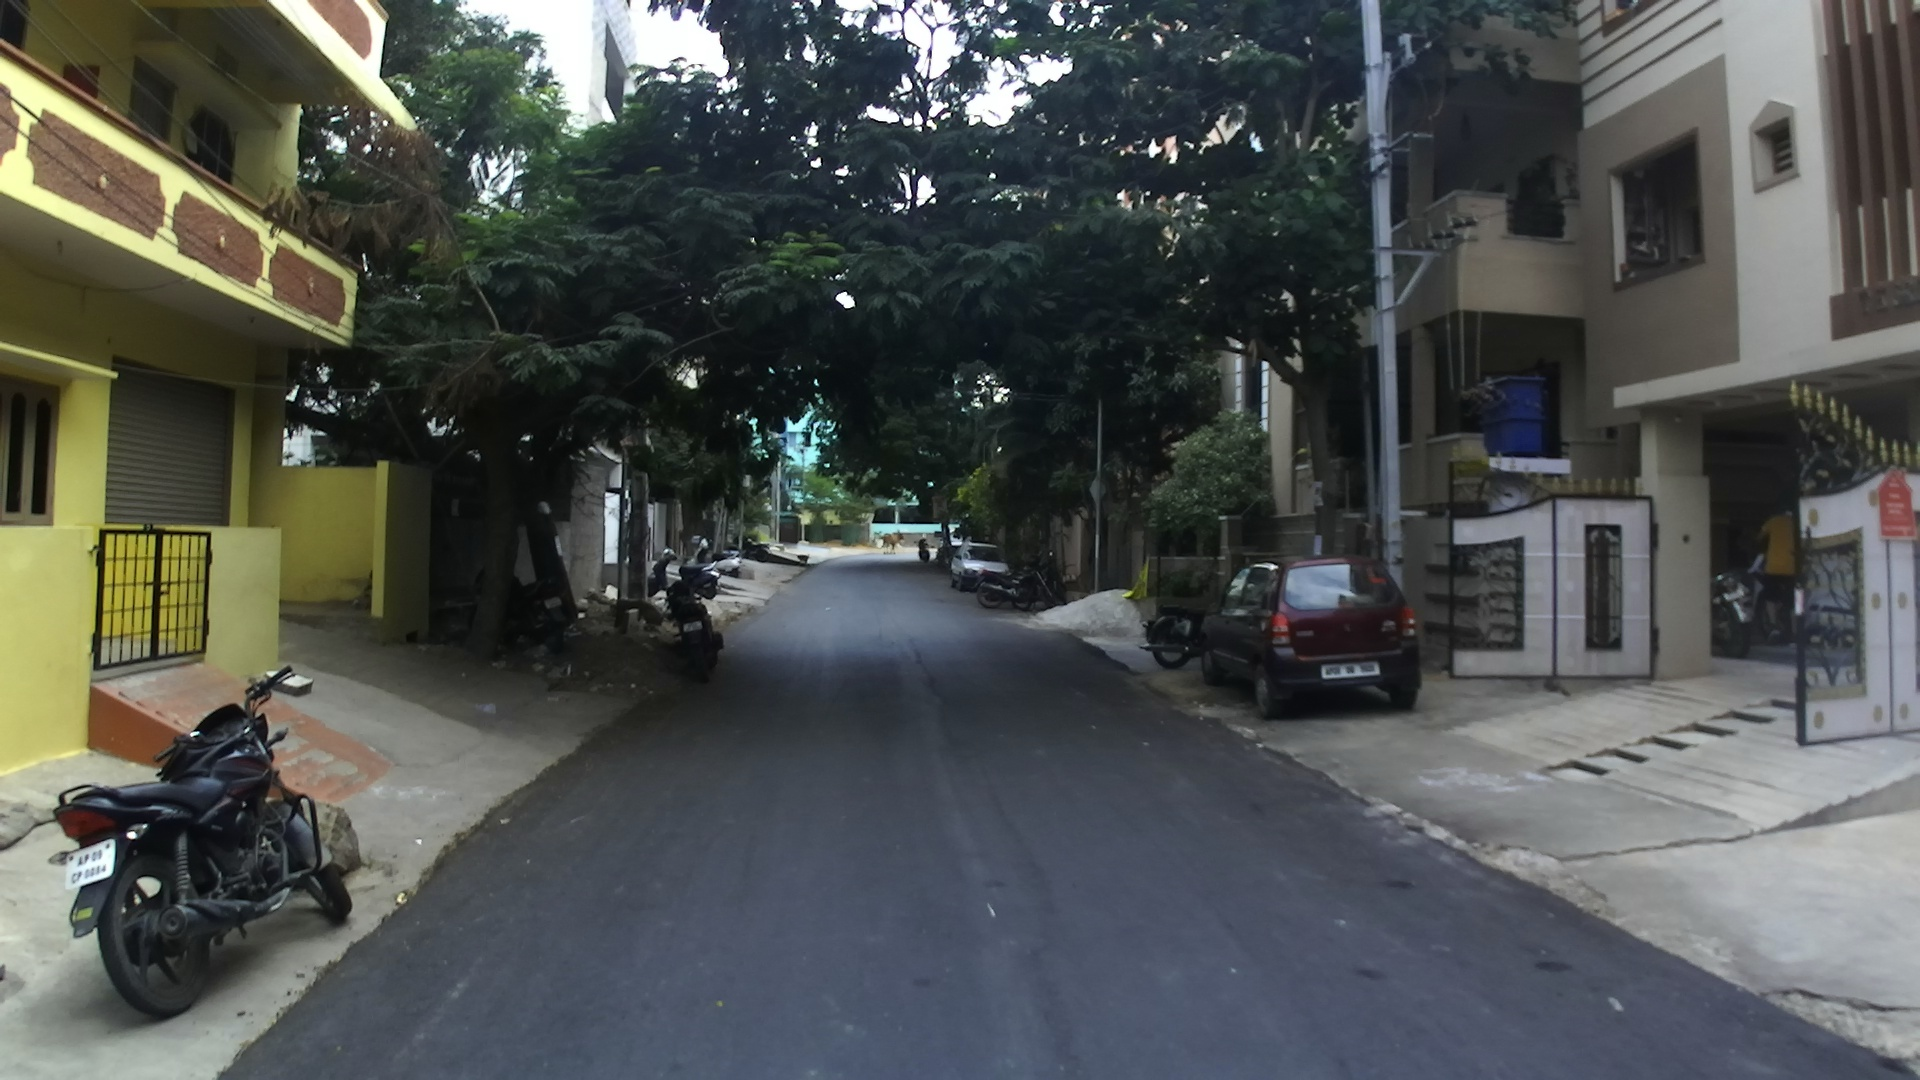vehicle: (51, 665, 357, 1018), (1197, 556, 1422, 717), (655, 574, 727, 682), (949, 549, 1013, 593)
